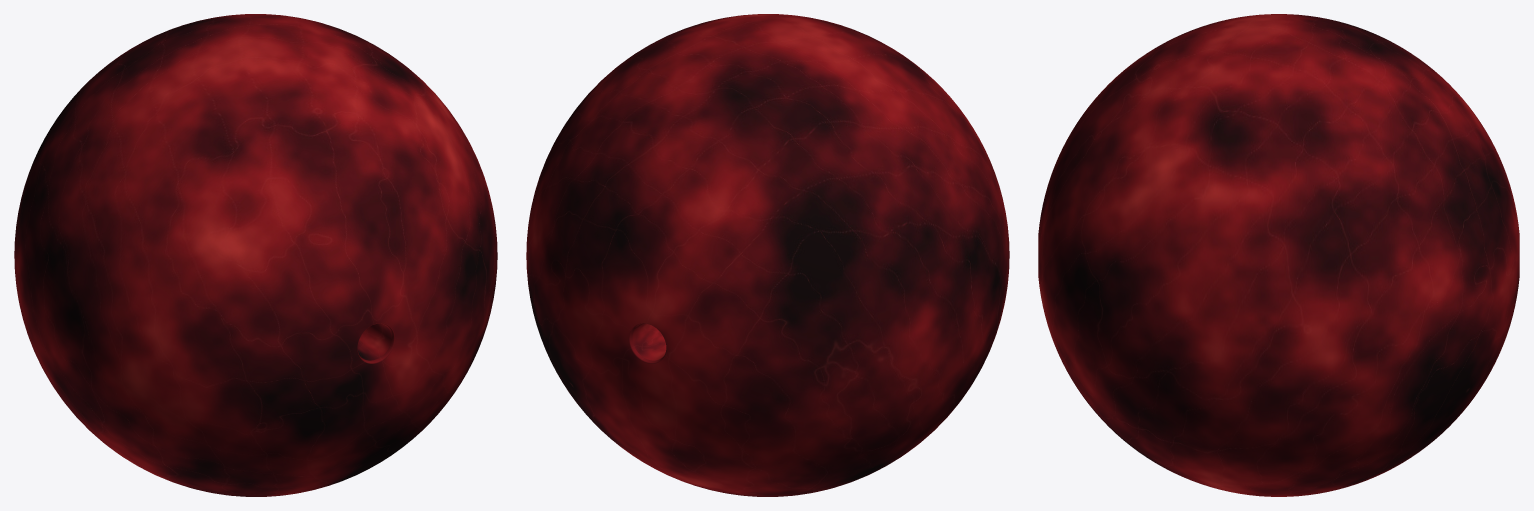
The model's file is garnet-12mm.glb.
3 views of the same model, side by side, from view 1: azimuth 30°, elevation 25°; view 2: azimuth 150°, elevation 25°; view 3: azimuth 270°, elevation 25° (orthographic).
Visible parts, largest first — view 1: garnet.001; view 2: garnet.001; view 3: garnet.001.
Part boxes in pixels (box(x1,y1,x2,y2)): garnet.001: box(14, 14, 497, 496); garnet.001: box(526, 14, 1009, 496); garnet.001: box(1038, 14, 1519, 496).
Size of the model in its own units: 0.012 by 0.012 by 0.012.
Materials: 2 (1 with a texture image).
